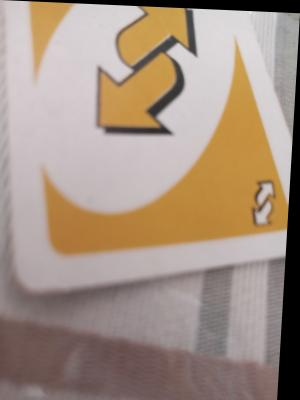yellow: (27, 8, 290, 255)
